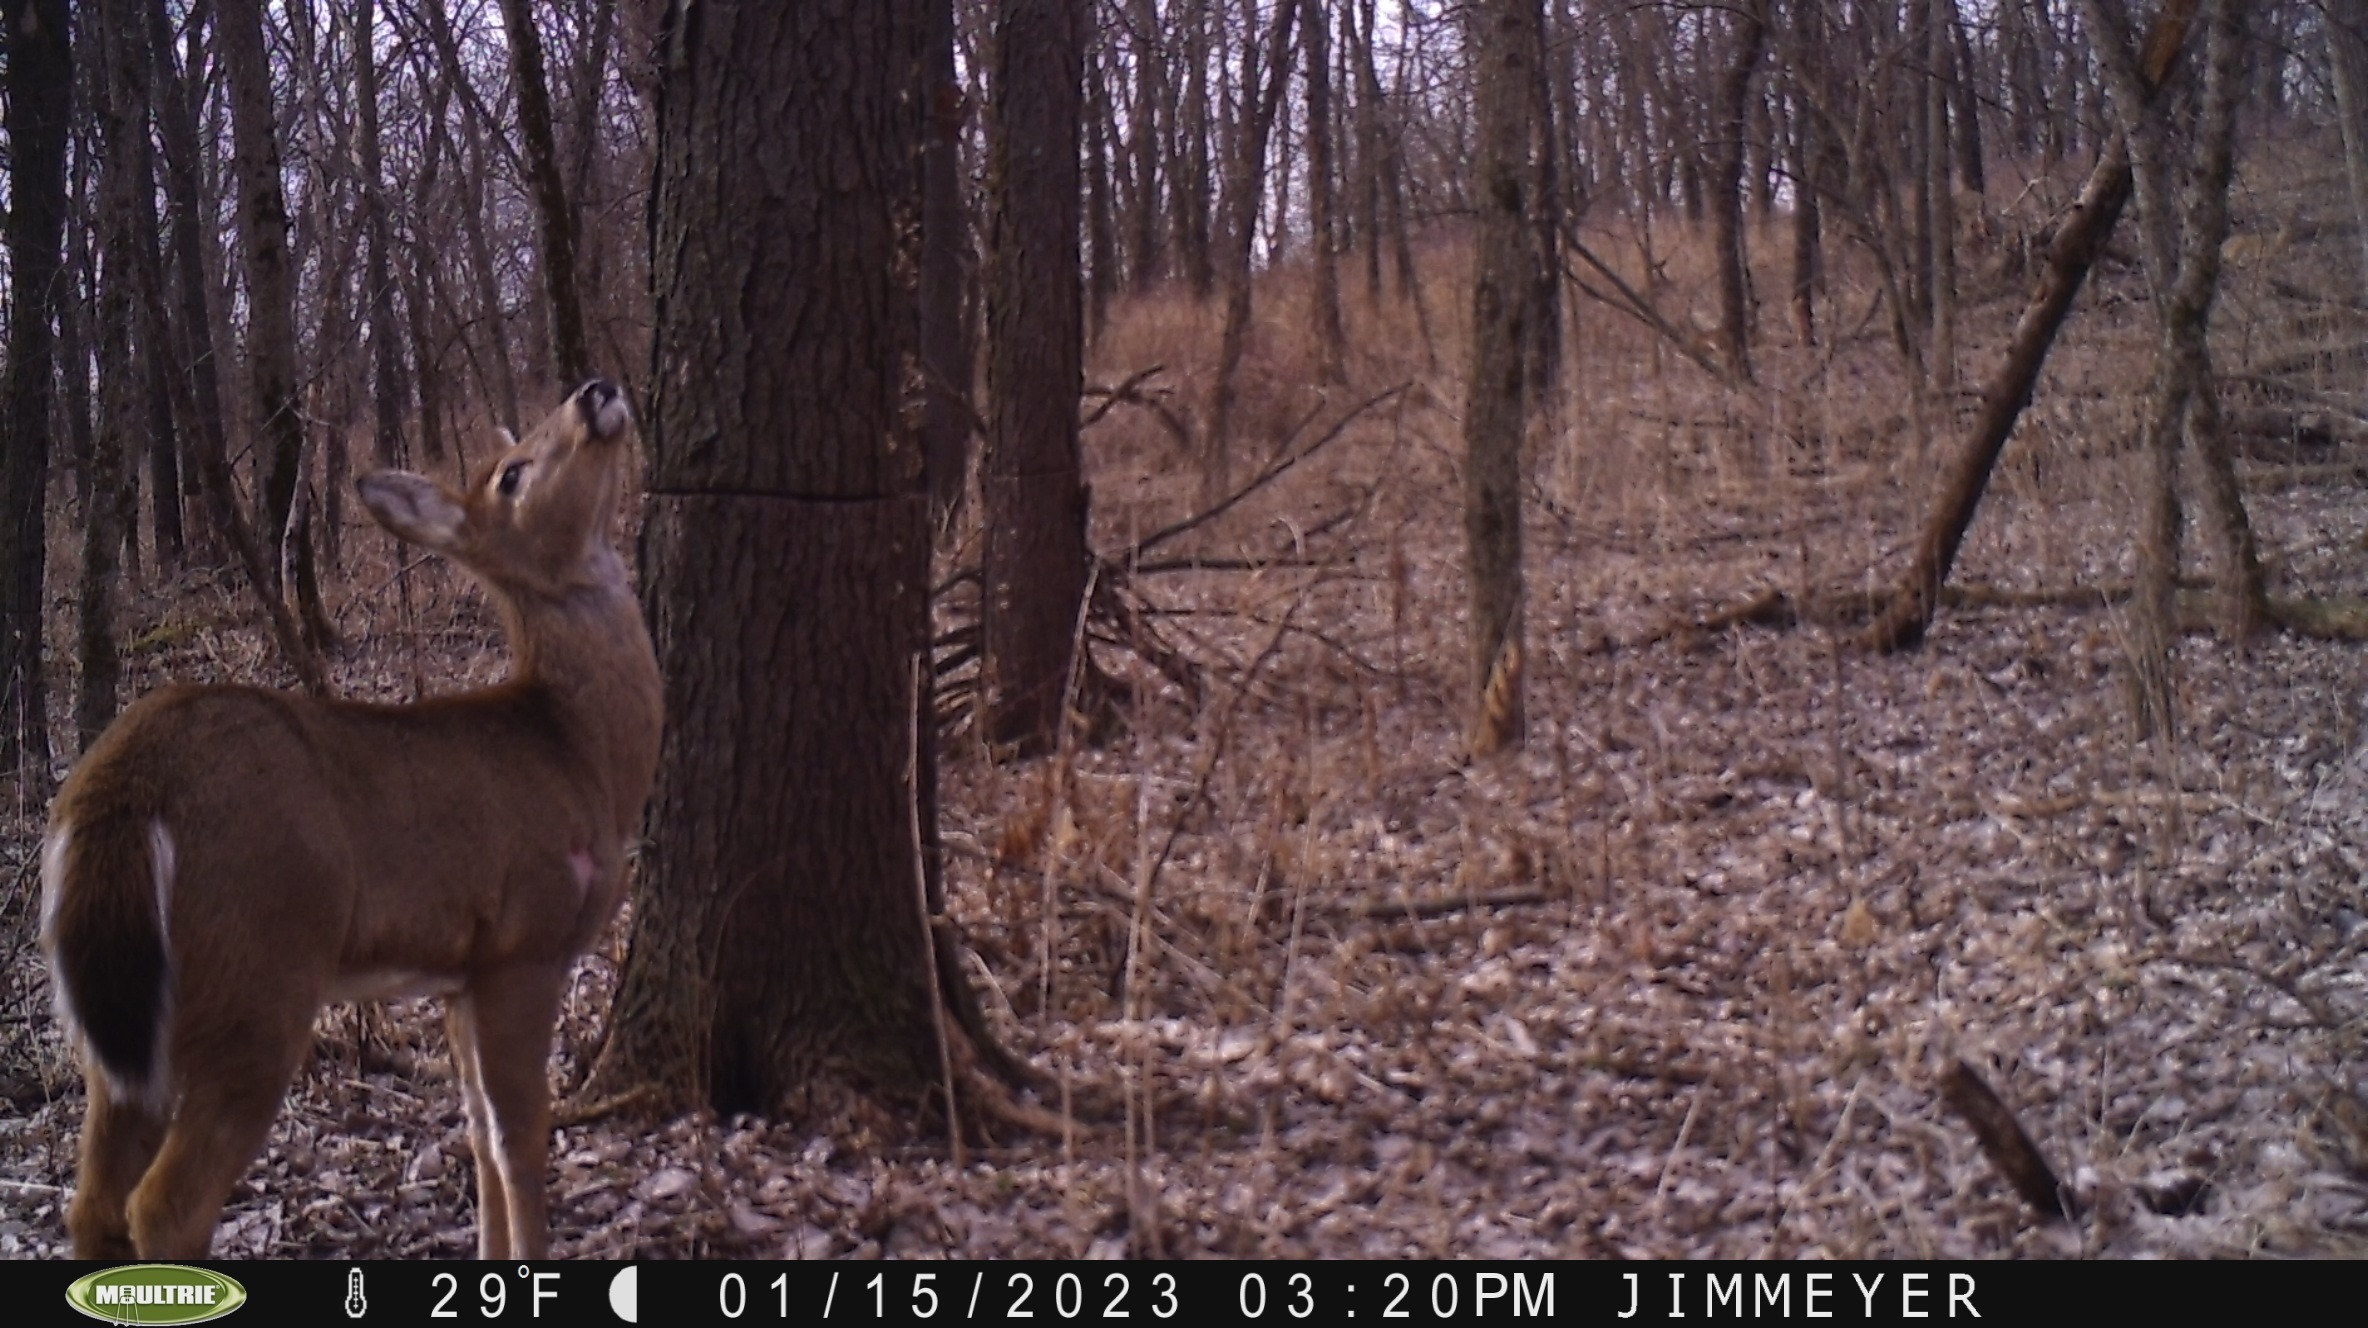DeerDoe: (36, 371, 662, 1256)
